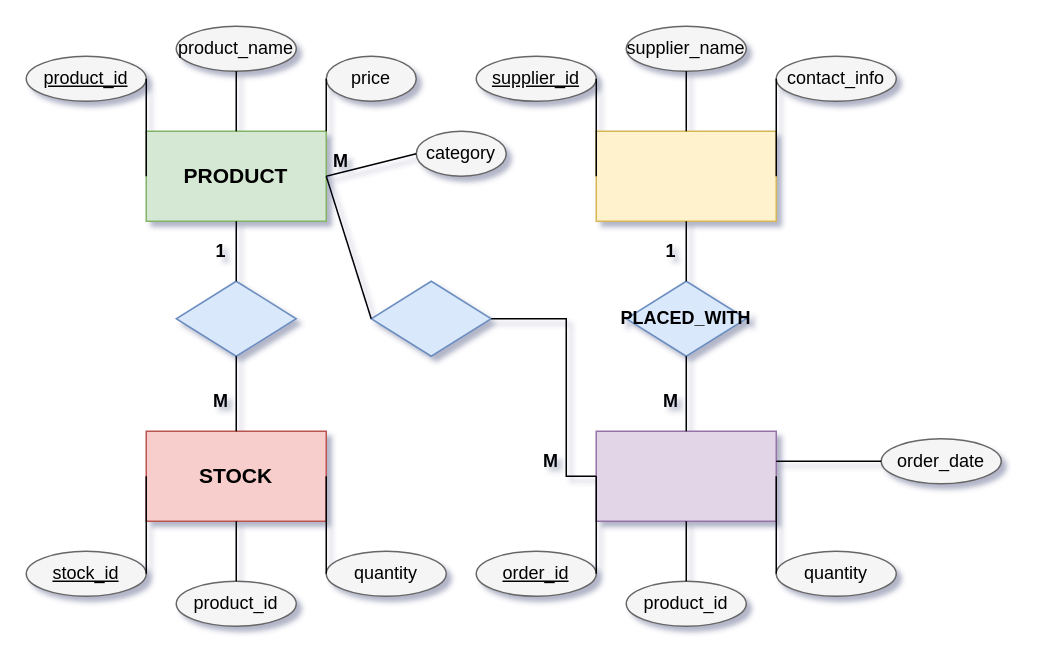
The diagram is 1037 pixels wide and 662 high, and some of its shapes have lost their labels. The shapes that lost their labels are listed below. From the top down, each one's centre as x and y in pixels, then its label:
At (x=685, y=175): "SUPPLIER".
At (x=235, y=318): "TRACKS".
At (x=430, y=318): "INCLUDES".
At (x=685, y=475): "ORDER".
